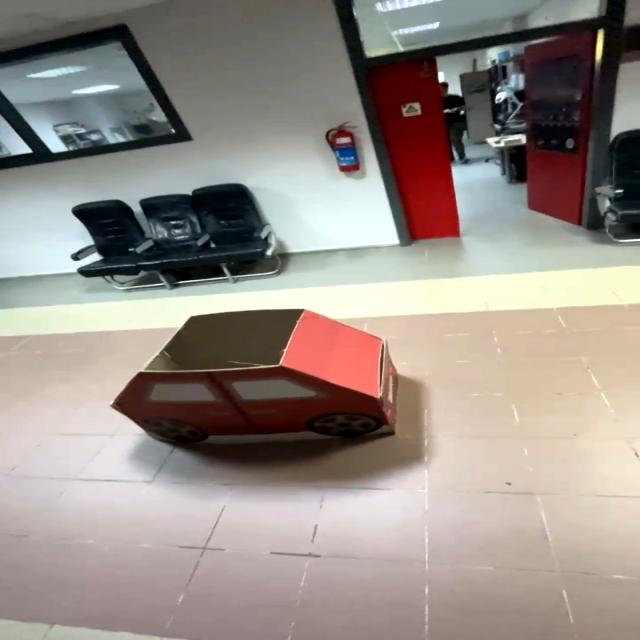red_car: (75, 290, 415, 476)
